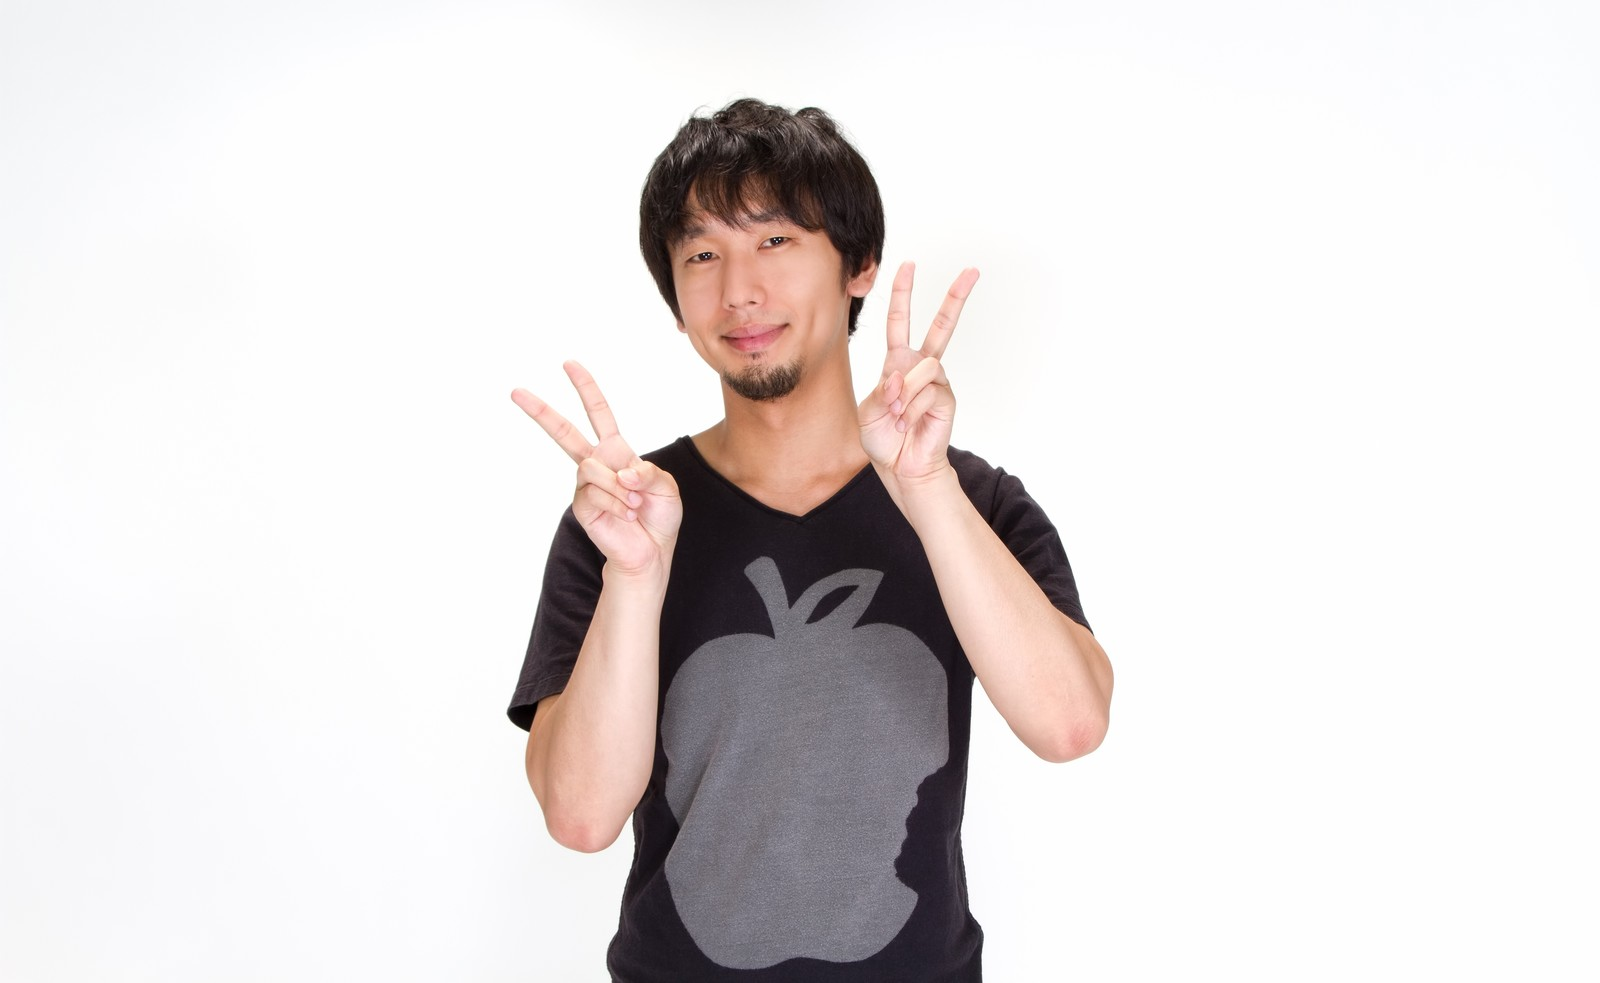face: (669, 169, 849, 396)
hand: (507, 358, 687, 569), (854, 258, 983, 483)
